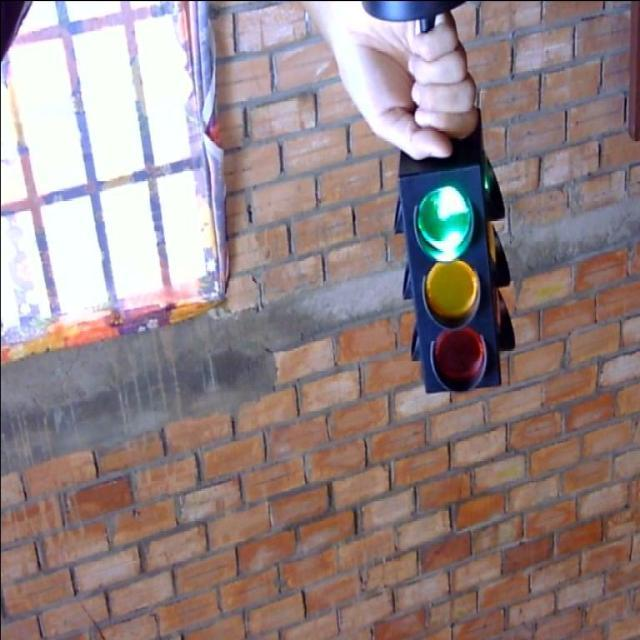green light: (412, 183, 476, 264)
